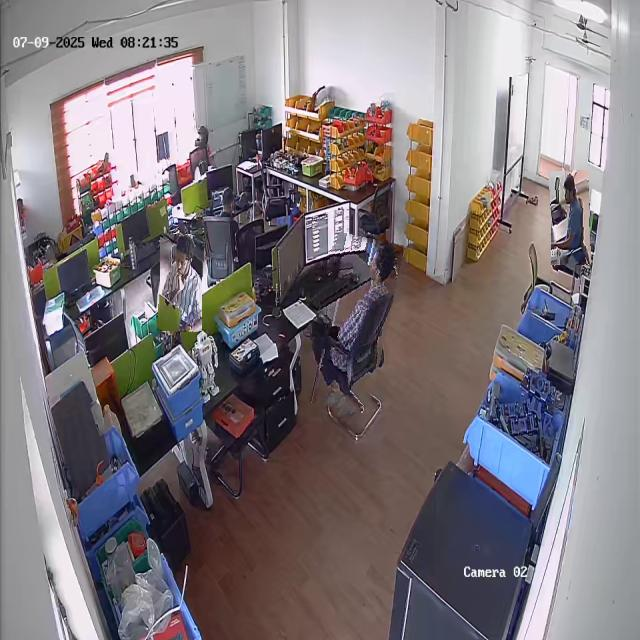person: (308, 234, 395, 412), (158, 234, 204, 332), (550, 171, 590, 265)
